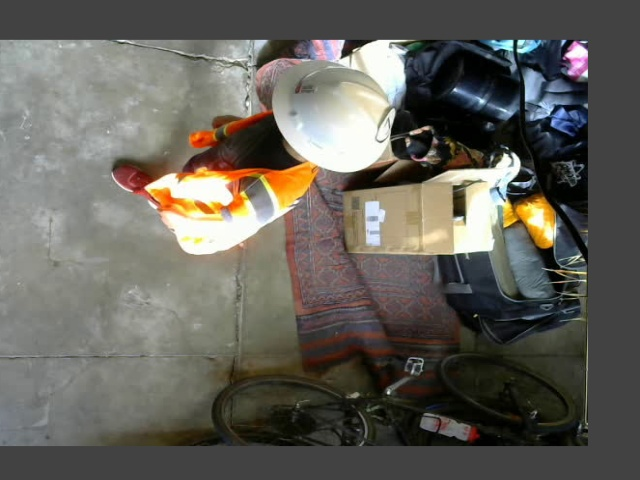one: (375, 107, 395, 142)
